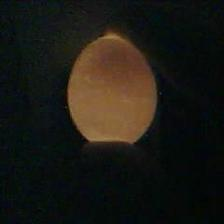infertile: (65, 32, 159, 146)
